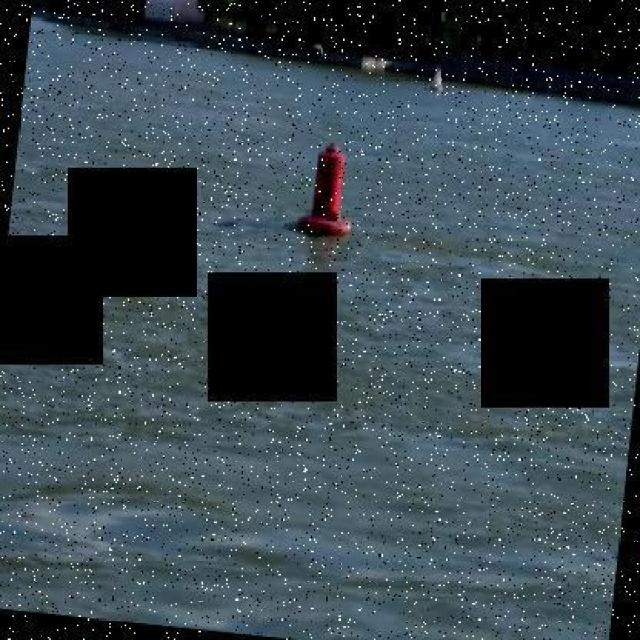Red Buoy: (300, 144, 350, 236)
